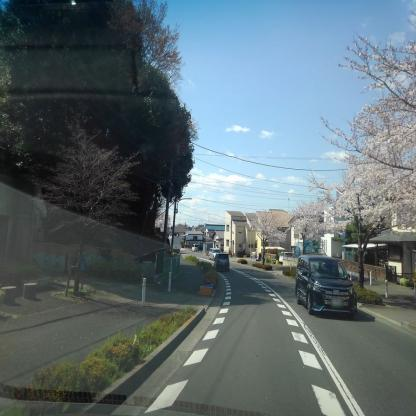Someiyoshino: (317, 23, 416, 237), (284, 192, 350, 247), (249, 207, 289, 247)
